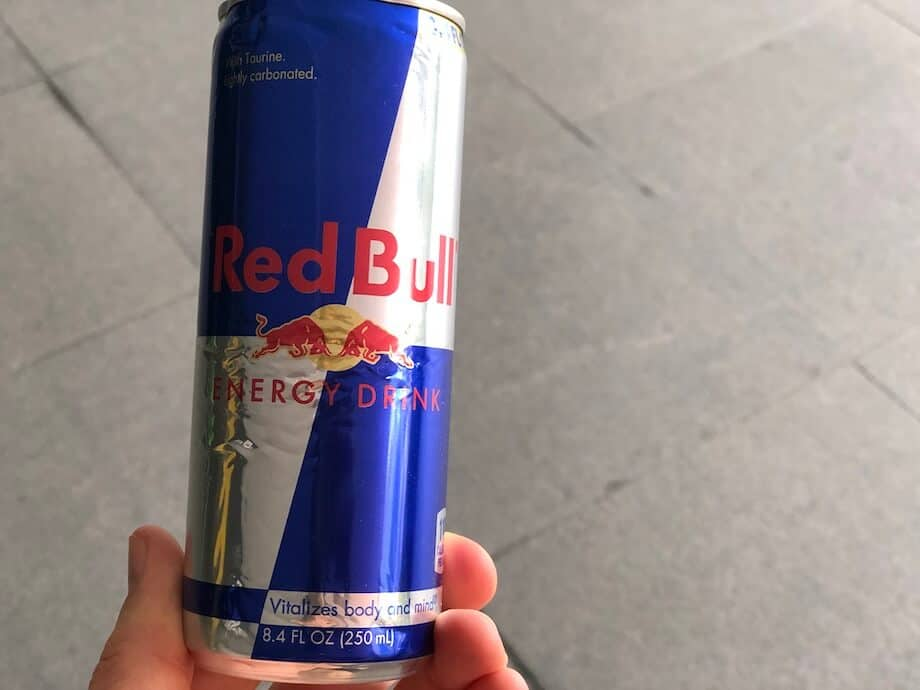redbull: (191, 2, 452, 680)
